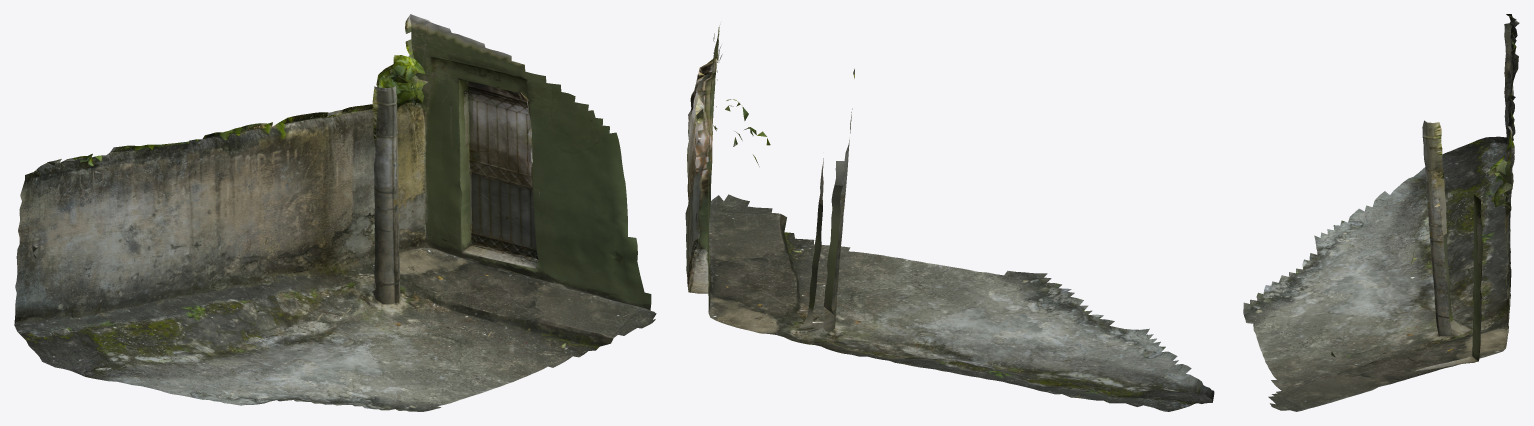
3 views of the same model, side by side, from view 1: azimuth 30°, elevation 25°; view 2: azimuth 150°, elevation 25°; view 3: azimuth 270°, elevation 25° (orthographic). The views are drawn at different scales.
Visible parts, largest first — view 1: Object_2; view 2: Object_2; view 3: Object_2.
Part boxes in pixels (box(x1,y1,x2,y2)): Object_2: box(14, 14, 656, 411); Object_2: box(685, 24, 1214, 411); Object_2: box(1243, 14, 1519, 411).
Size of the model in its own units: 10.82 by 5.21 by 5.23.
Materials: 1 (1 with a texture image).
